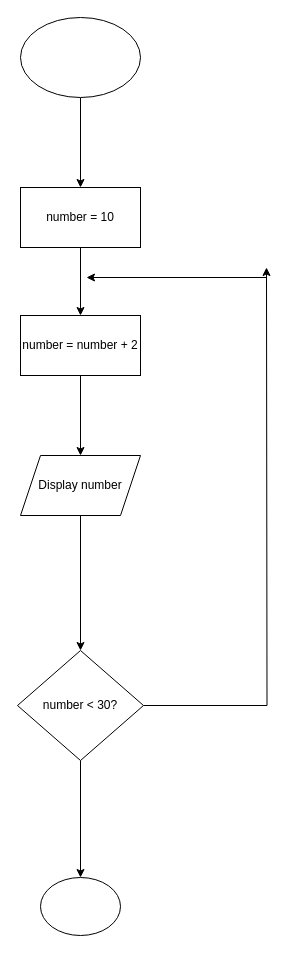
The diagram is 293 pixels wide and 953 high, and some of its shapes have lost their labels. Here are the shapes that lost their labels. From the top down, the centre of each, then its label:
At (x=80, y=57): "START".
At (x=80, y=906): "STOP".
